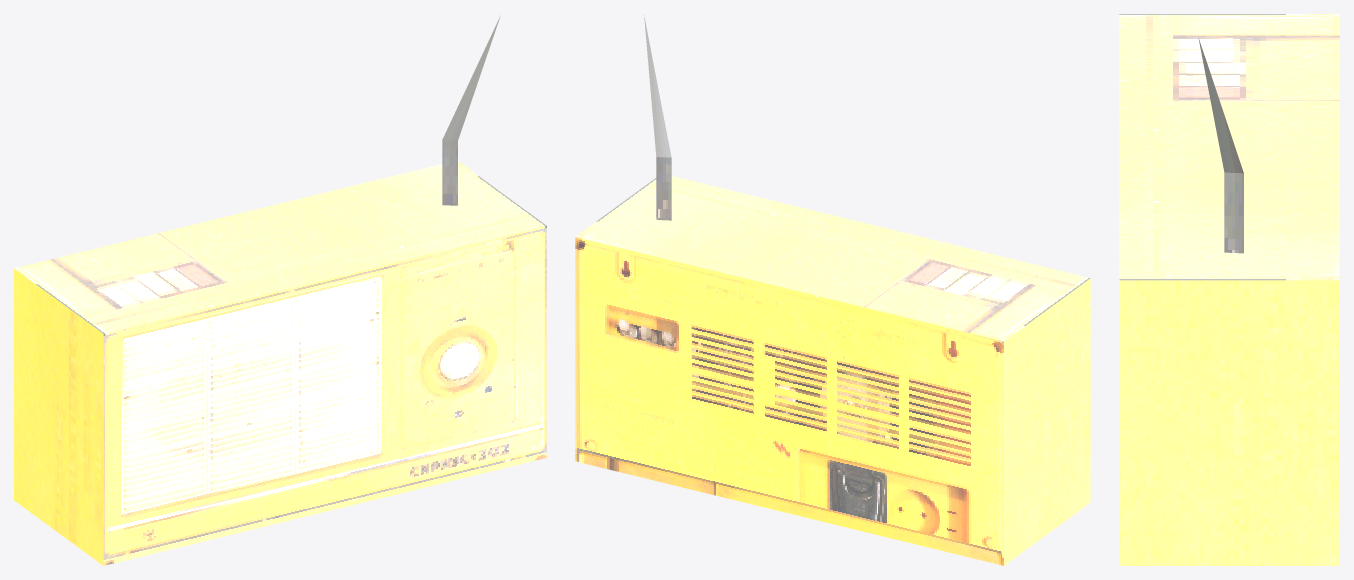
The model's file is music_player.glb.
3 renders of one model, left to right at view 1: azimuth 30°, elevation 25°; view 2: azimuth 150°, elevation 25°; view 3: azimuth 270°, elevation 25°, orthographic. The views are drawn at different scales.
Visible parts, largest first — view 1: MusicPlayer; view 2: MusicPlayer; view 3: MusicPlayer.
Boxes of the visible parts, left/top/right/bottom form: MusicPlayer: left=14, top=15, right=546, bottom=565; MusicPlayer: left=575, top=15, right=1090, bottom=565; MusicPlayer: left=1119, top=14, right=1339, bottom=565.
Size of the model in its own units: 0.8 by 0.7305 by 0.28.
